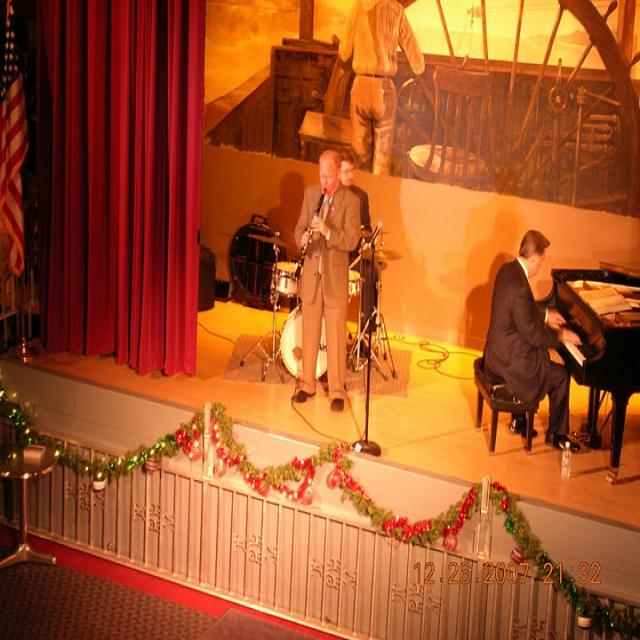clarinet: (292, 187, 328, 280)
drums: (249, 231, 362, 381)
